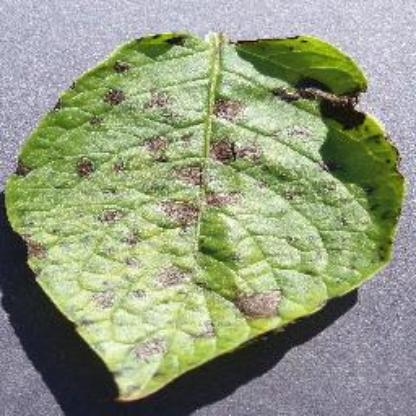Early-Blight: (3, 23, 407, 401)
